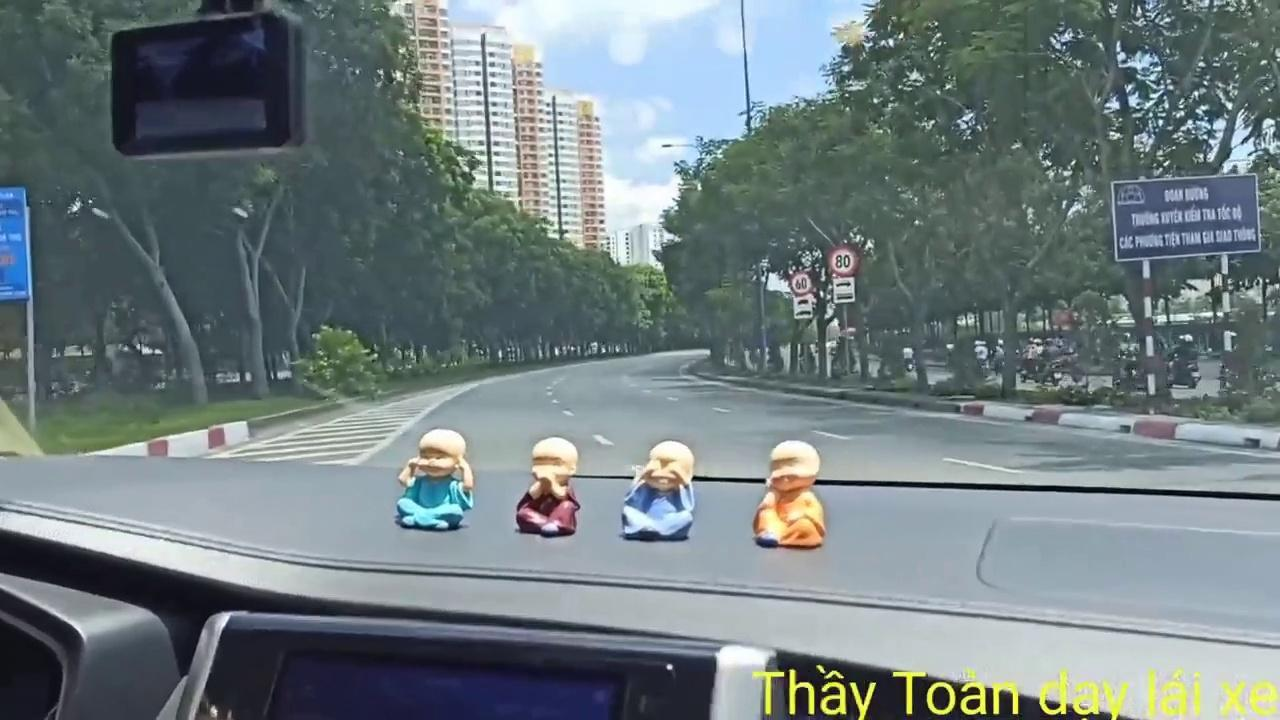Biển phụ: (832, 278, 855, 304), (793, 298, 813, 318)
GIơi hạn tốc độ 60Km/h: (788, 269, 813, 296)
Giới hạn tốc độ 80Km/h: (826, 244, 860, 277)
